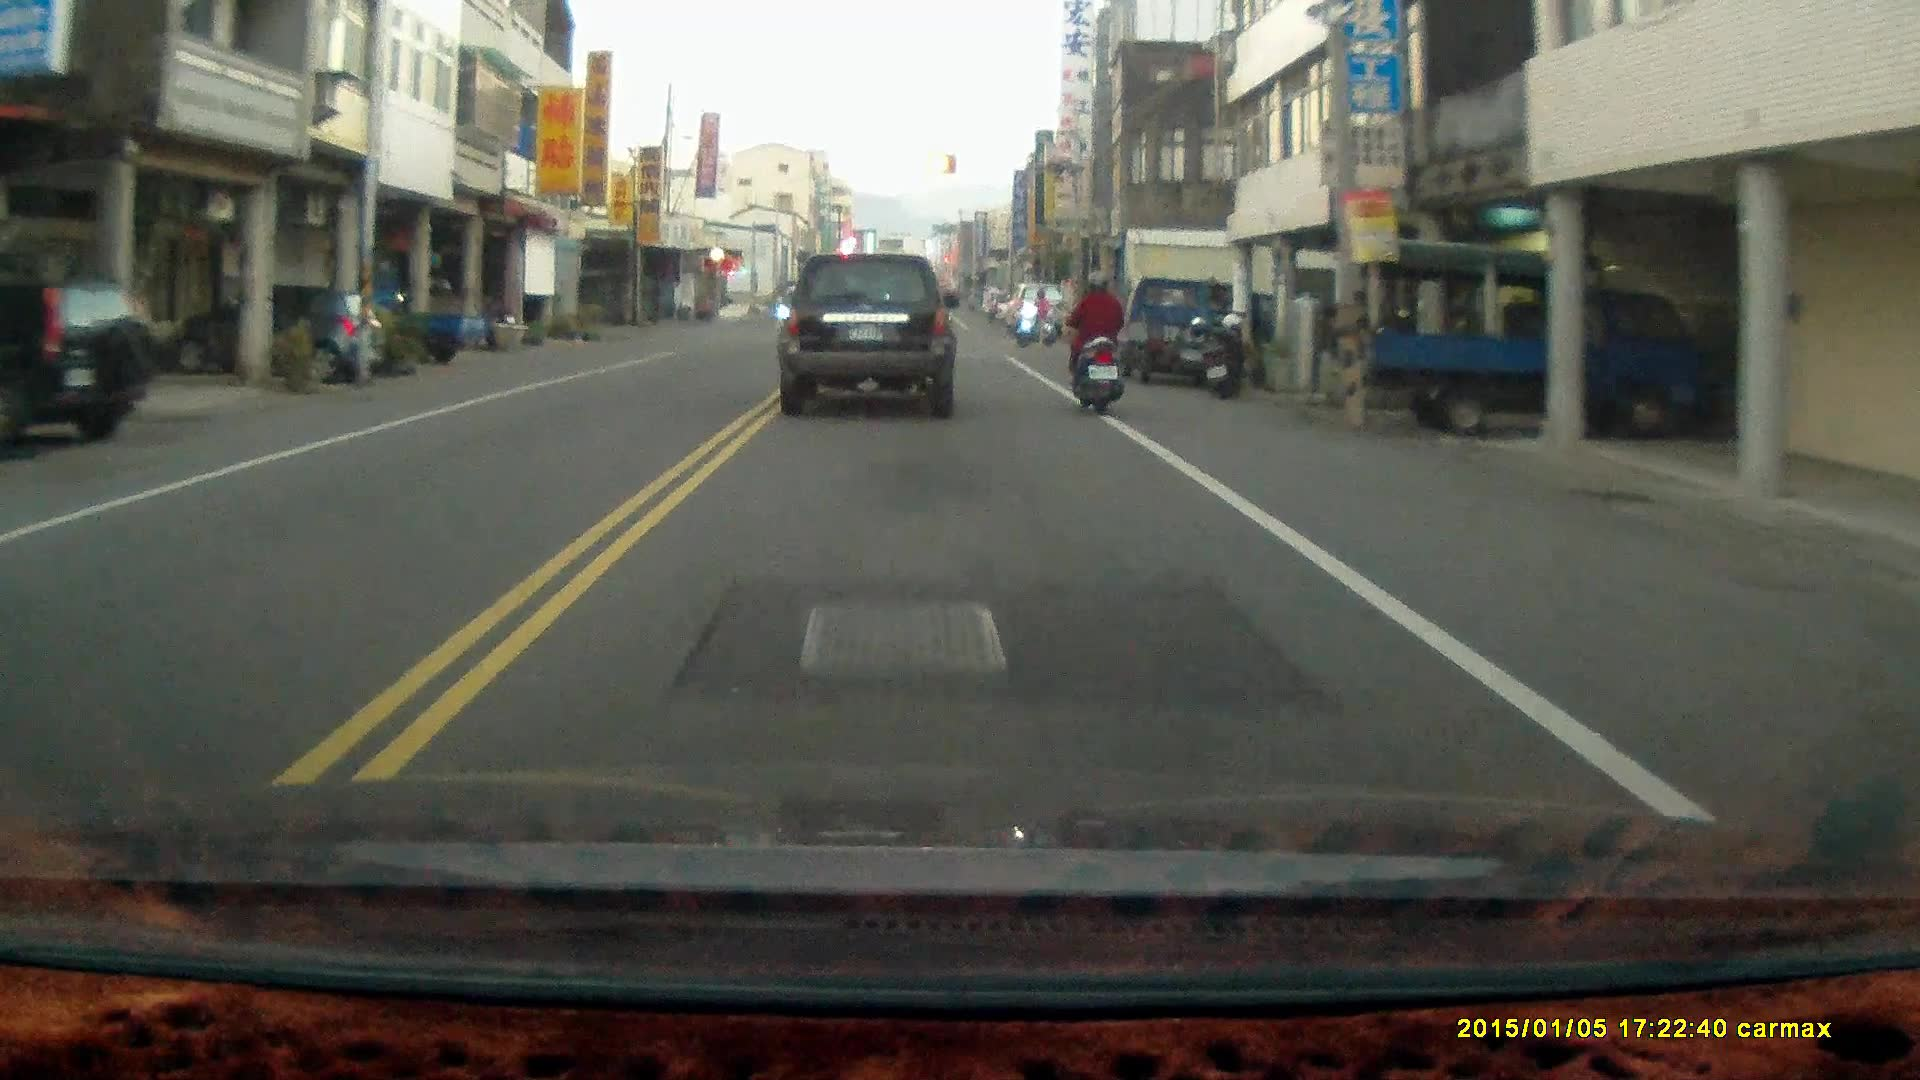rider: (1069, 266, 1125, 417), (1010, 289, 1052, 347)
vehicle: (1350, 241, 1710, 437), (777, 253, 959, 422), (1, 276, 162, 462), (164, 283, 385, 381), (1113, 270, 1250, 385)
